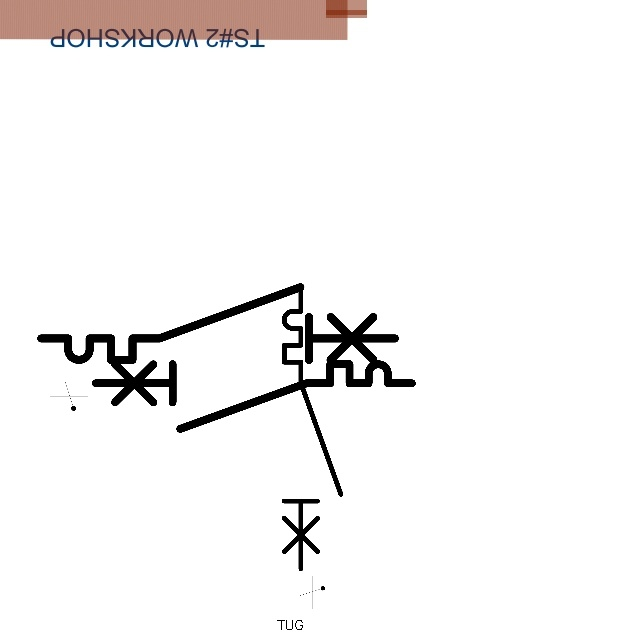interruptor_termomagnetico: (32, 278, 403, 369), (87, 356, 420, 437), (277, 283, 348, 575)
